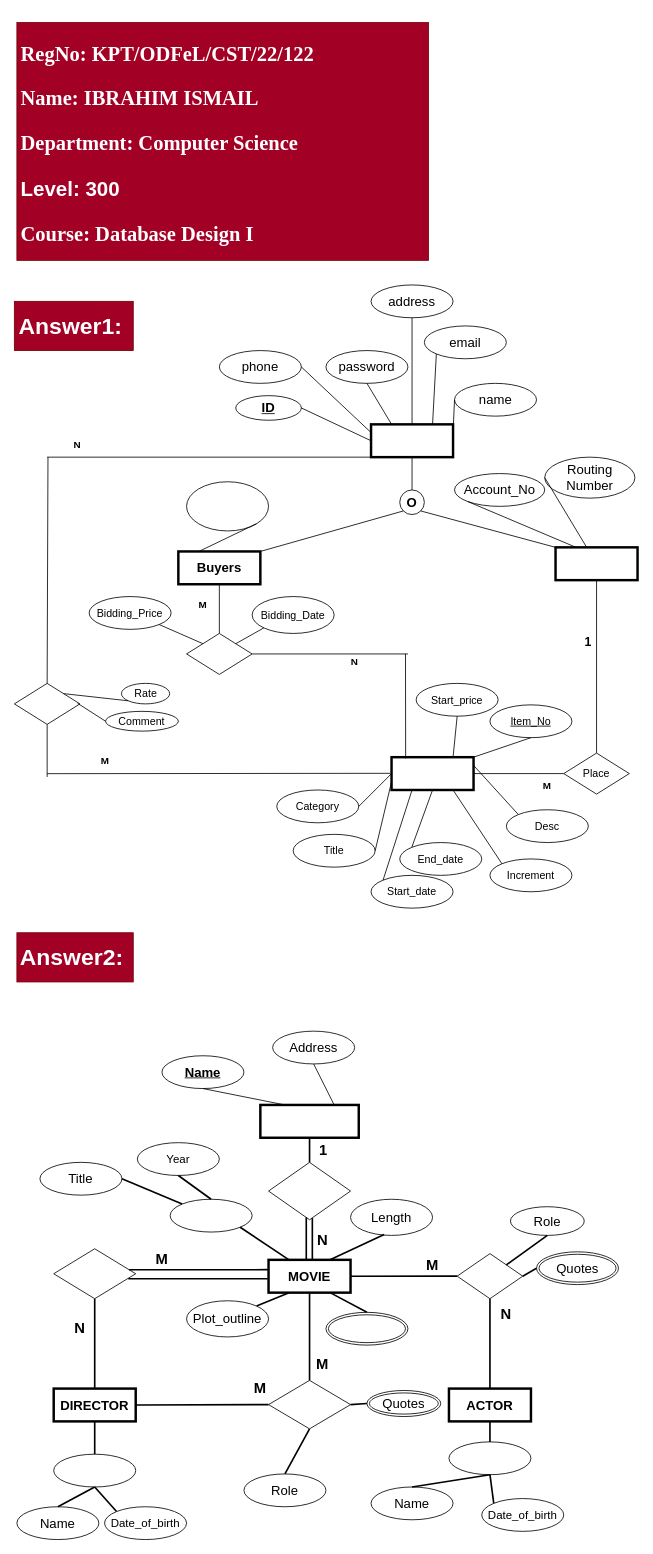
The diagram is 653 pixels wide and 1554 high, and some of its shapes have lost their labels. The box of each missing label's shape, as (x1, y1, x2, y2) in pixels:
ACTS: (456, 1253, 523, 1299)
Akey: (448, 1441, 531, 1475)
Bids: (186, 633, 252, 674)
DIR_ACTS: (268, 1380, 351, 1429)
DIRECTS: (53, 1248, 136, 1299)
Dkey: (53, 1453, 136, 1487)
Feedback: (14, 683, 80, 724)
Genre: (325, 1312, 408, 1345)
Items: (390, 756, 474, 791)
Members: (369, 423, 454, 458)
Mkey: (169, 1198, 252, 1232)
PRODUCES: (268, 1162, 351, 1220)
PRODUCTION: (259, 1103, 360, 1139)
Sellers: (554, 546, 638, 581)
Shipping Address: (186, 481, 269, 531)
